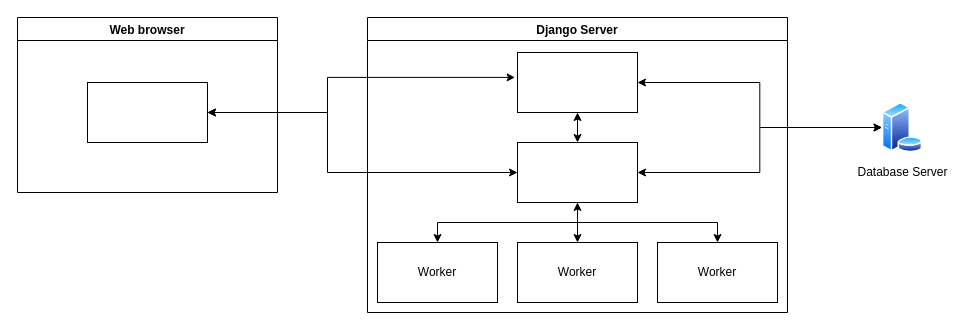
This 975x330 diagram has some shape labels left out. The centre of each missing label's shape, as x and y in pixels:
"Job API" belongs at (577,172).
"Main API" belongs at (577,82).
"React App" belongs at (147,112).
